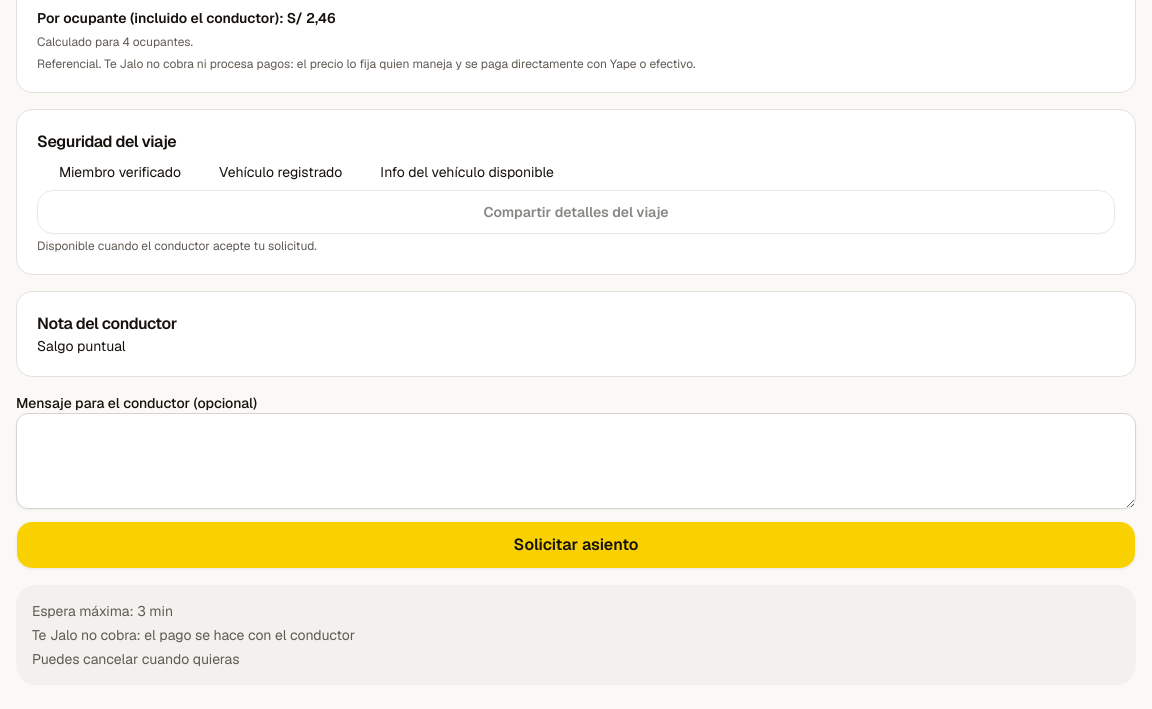
trip detail /viajes/{id} (US-014) › falls back to a generic message when the server does not answer
This screenshot has width=1152, height=709.
(page scrolled)
Click the button "Solicitar asiento" at [576, 545], box left=16, top=521, right=1136, bottom=569
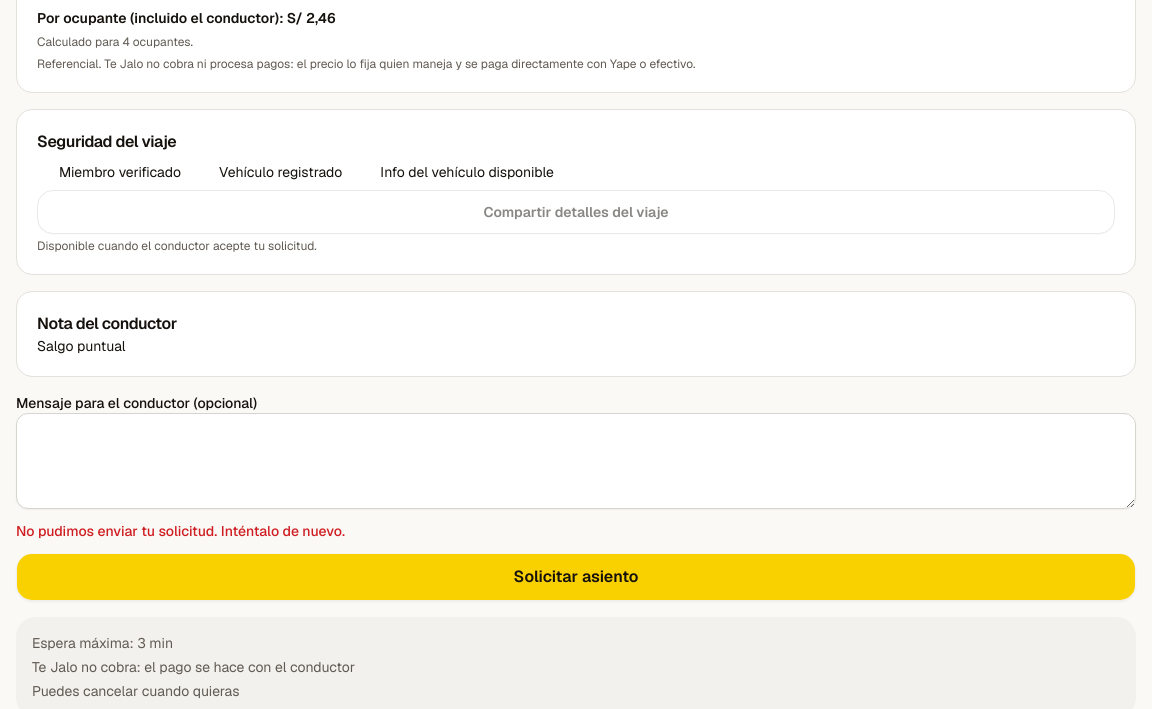
expect the message reads "No pudimos enviar tu solicitud. Inténtalo de nuevo.": met, box left=16, top=522, right=345, bottom=540
